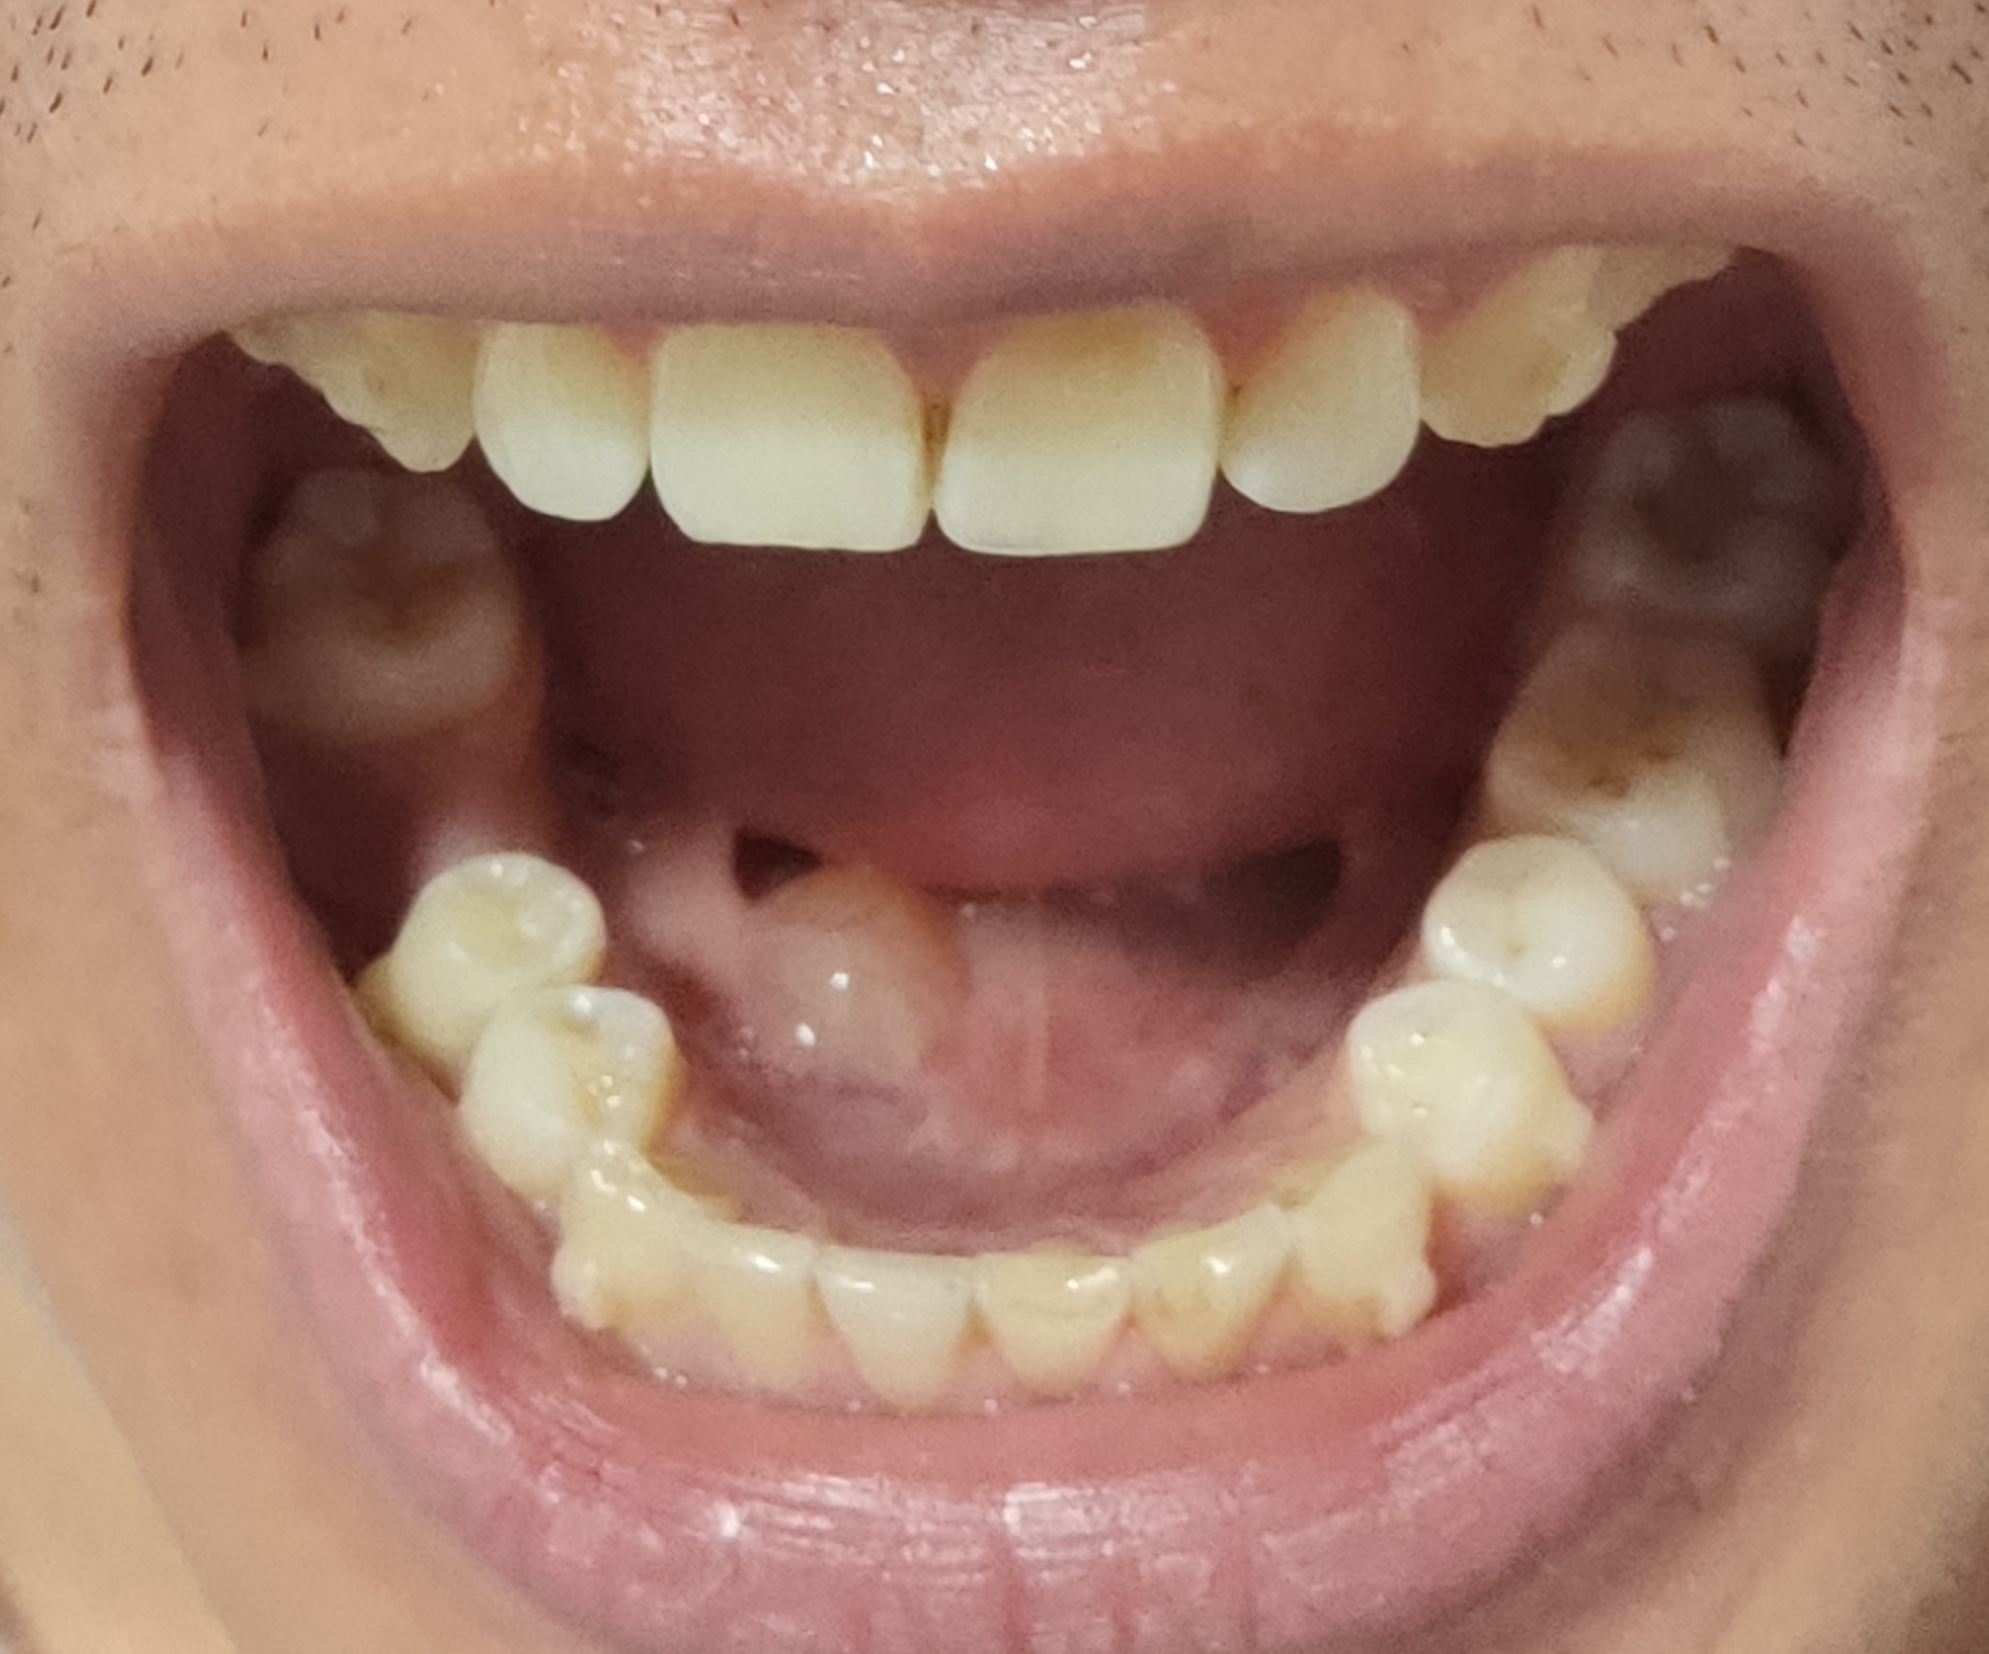teeth: (1495, 613, 1786, 871), (244, 466, 519, 735), (1588, 397, 1845, 646), (953, 297, 1209, 524), (653, 327, 922, 537), (1356, 980, 1593, 1196), (380, 853, 598, 1071), (1437, 839, 1667, 1031), (458, 991, 664, 1193), (1229, 299, 1414, 502), (557, 1155, 742, 1328), (479, 329, 639, 512), (1297, 1135, 1429, 1347), (1429, 259, 1591, 430), (1137, 1210, 1292, 1375), (821, 1257, 966, 1404), (978, 1259, 1127, 1396), (320, 314, 458, 458), (699, 1239, 806, 1385)
